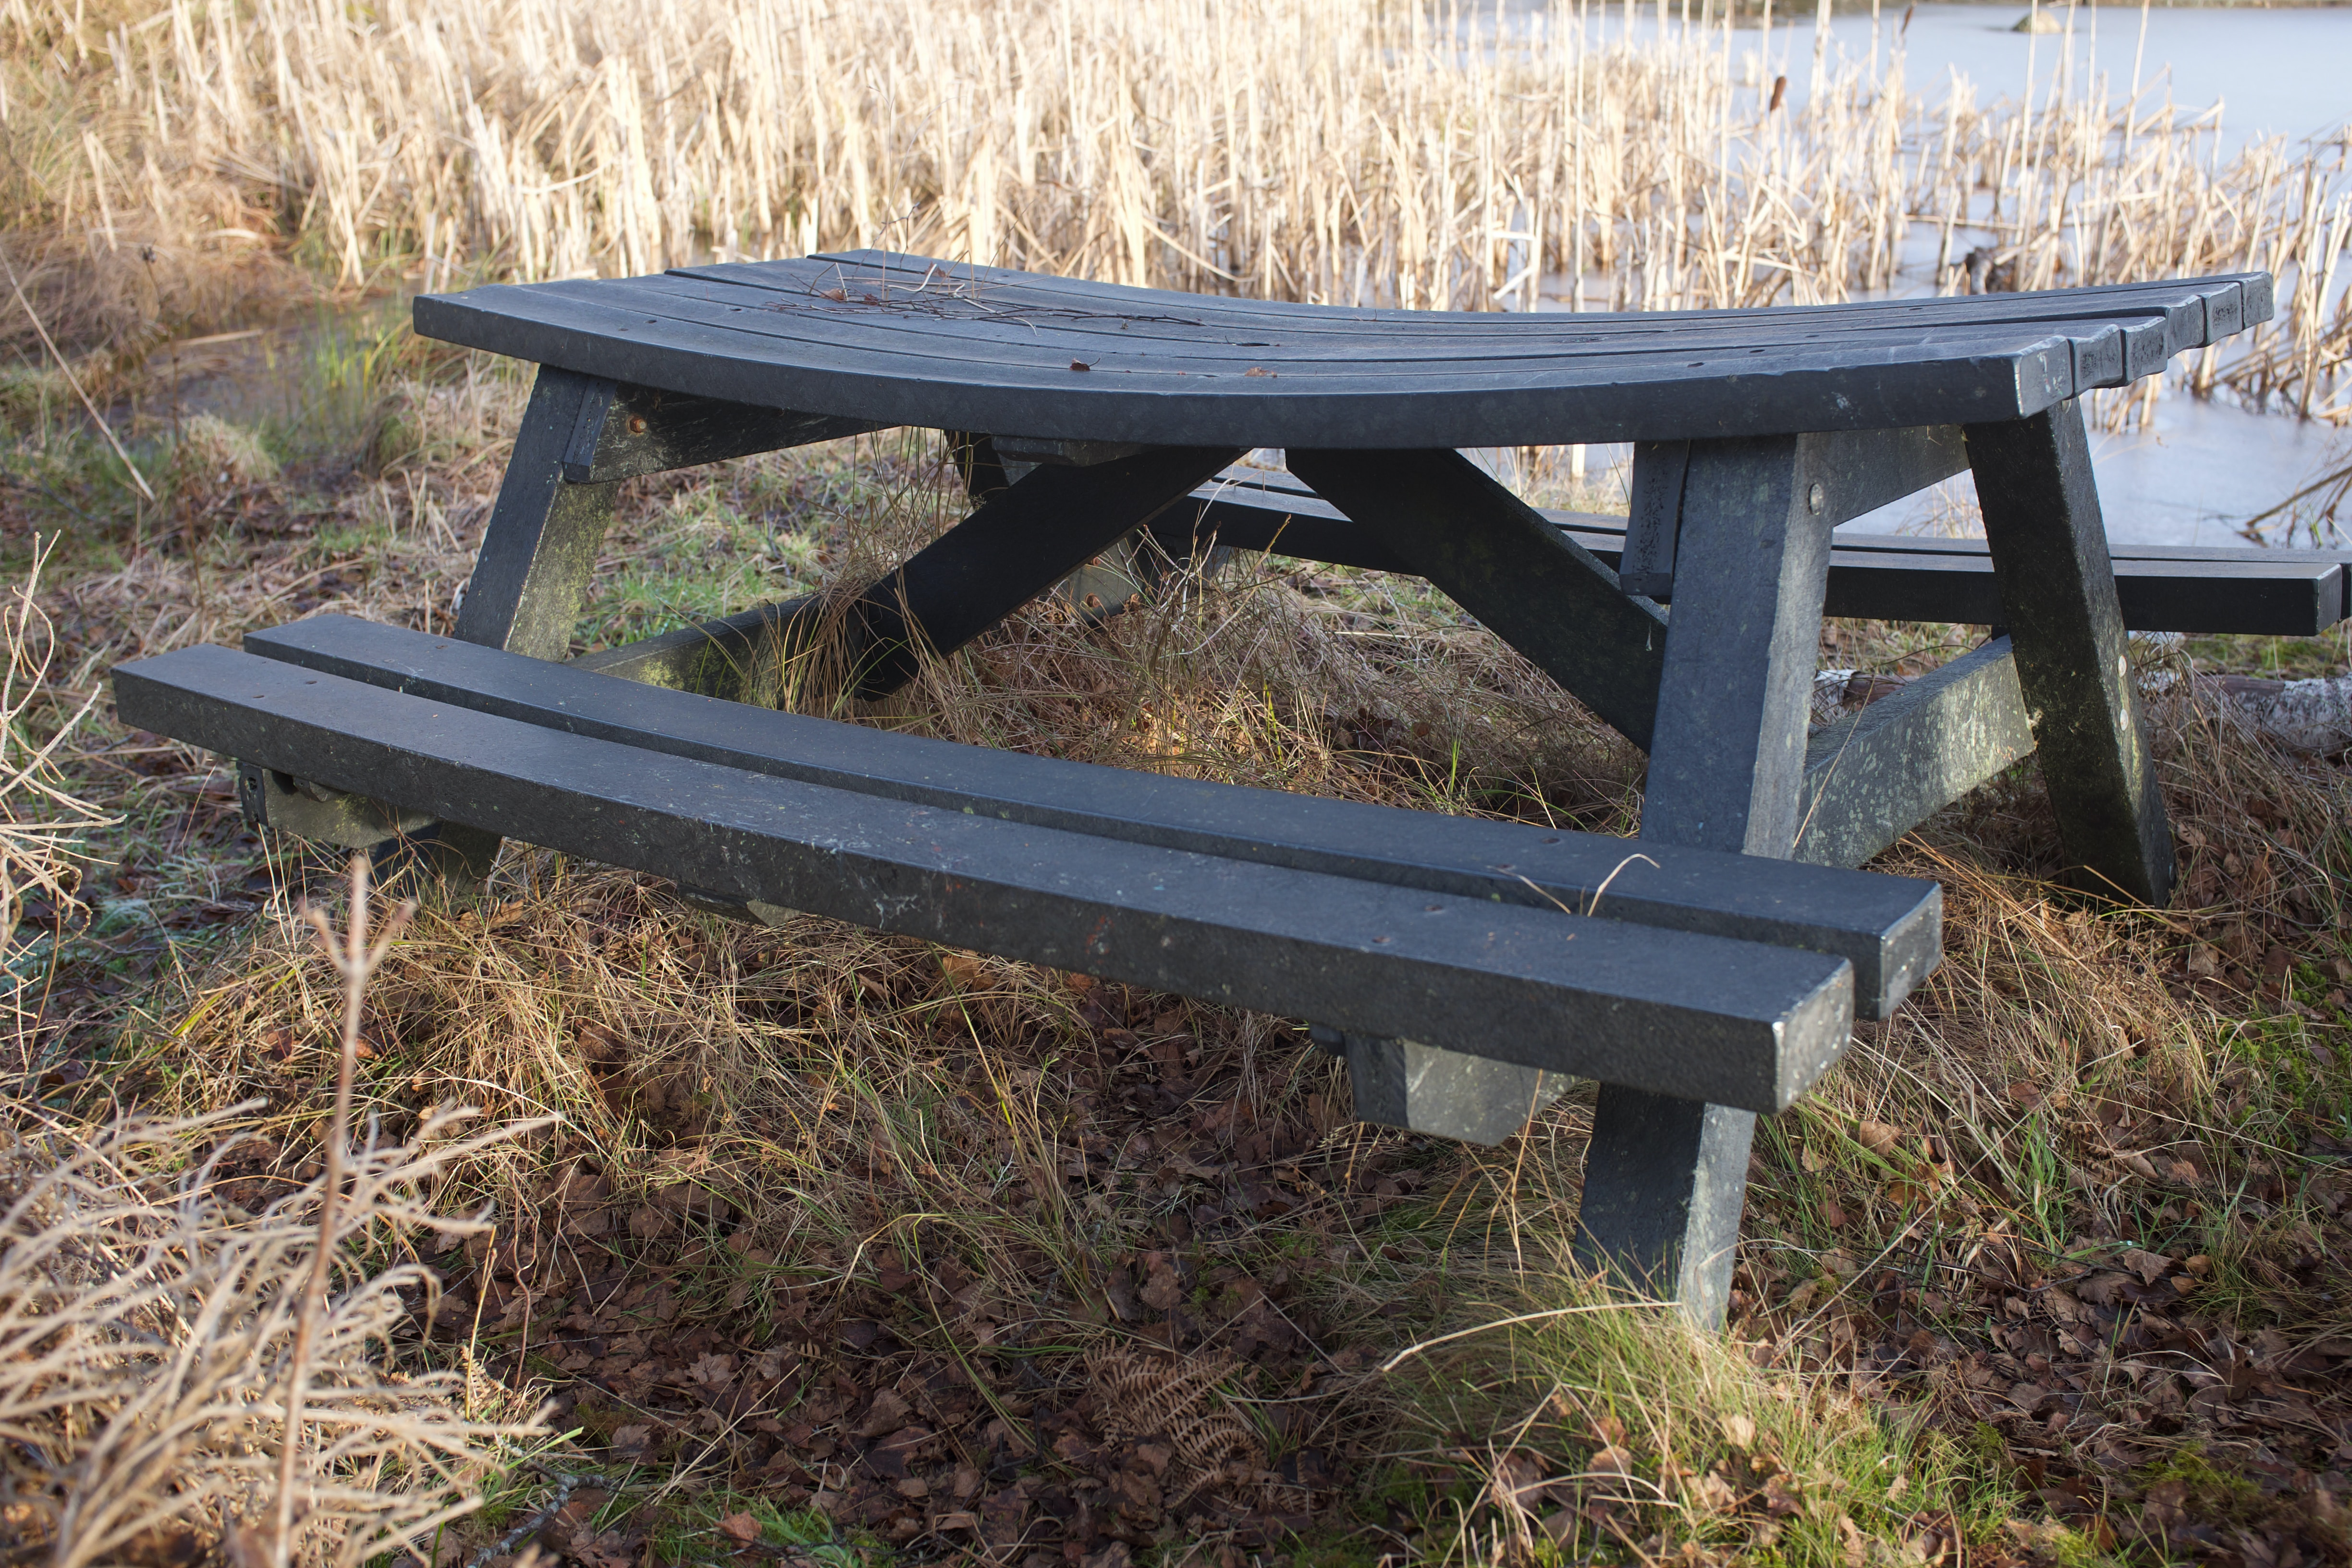obstacle: (103, 150, 2319, 1454)
